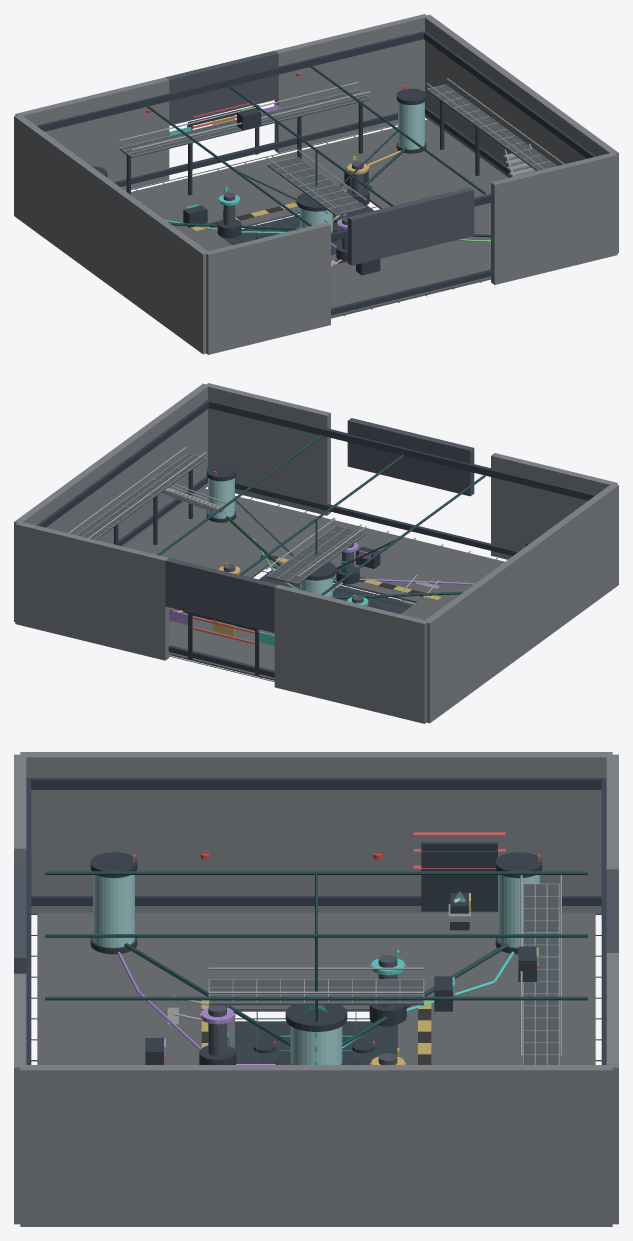
The model's file is industrial_coolant_relay_puzzle_room.glb.
The picture shows the model from 3 angles, top to bottom: view 1: azimuth 30°, elevation 25°; view 2: azimuth 150°, elevation 25°; view 3: azimuth 270°, elevation 25°; orthographic projection. The views are drawn at different scales.
Visible parts, largest first — view 1: west_wall, south_wall_right, south_wall_left, north_floor_slab, north_wall_right, east_wall, north_wall_left, south_floor_slab, south_entry_header, north_exit_header, north_upper_trim, east_floor_slab (+14 smaller); view 2: west_wall, north_wall_left, north_wall_right, south_floor_slab, south_wall_right, east_wall, south_wall_left, north_exit_header, south_entry_header, south_upper_trim, north_floor_slab, east_floor_slab (+12 smaller); view 3: east_wall, west_wall, south_floor_slab, north_floor_slab, west_floor_slab, west_upper_trim, north_control_balcony_mesh_base, west_optional_reward_gate_frame_left, central_over_pit_bridge_mesh_base, west_lower_trim, lowered_coolant_service_pit, violet_source_tank_C_glass_outer (+22 smaller).
Boxes of the visible parts, left/top/right/bottom form: west_wall: left=14, top=114, right=209, bottom=354; south_wall_right: left=491, top=153, right=617, bottom=284; south_wall_left: left=205, top=222, right=330, bottom=354; north_floor_slab: left=131, top=119, right=491, bottom=235; north_wall_right: left=274, top=14, right=427, bottom=153; east_wall: left=425, top=14, right=618, bottom=252; north_wall_left: left=15, top=77, right=169, bottom=190; south_floor_slab: left=331, top=222, right=490, bottom=318; south_entry_header: left=347, top=187, right=474, bottom=265; north_exit_header: left=165, top=50, right=278, bottom=125; north_upper_trim: left=36, top=31, right=425, bottom=131; east_floor_slab: left=368, top=162, right=508, bottom=225; west_wall: left=423, top=483, right=618, bottom=723; north_wall_left: left=274, top=584, right=427, bottom=723; north_wall_right: left=15, top=522, right=169, bottom=660; south_floor_slab: left=142, top=488, right=504, bottom=604; south_wall_right: left=205, top=383, right=330, bottom=515; east_wall: left=14, top=383, right=208, bottom=621; south_wall_left: left=491, top=453, right=617, bottom=559; north_exit_header: left=165, top=558, right=278, bottom=632; south_entry_header: left=347, top=418, right=474, bottom=496; south_upper_trim: left=207, top=400, right=596, bottom=500; north_floor_slab: left=169, top=607, right=274, bottom=680; east_floor_slab: left=124, top=530, right=272, bottom=577; east_wall: left=20, top=1065, right=612, bottom=1226; west_wall: left=20, top=752, right=612, bottom=913; south_floor_slab: left=37, top=912, right=234, bottom=1064; north_floor_slab: left=398, top=912, right=595, bottom=1064; west_floor_slab: left=217, top=912, right=415, bottom=1011; west_upper_trim: left=26, top=778, right=605, bottom=789; north_control_balcony_mesh_base: left=523, top=885, right=558, bottom=1064; west_optional_reward_gate_frame_left: left=421, top=842, right=497, bottom=911; central_over_pit_bridge_mesh_base: left=209, top=980, right=423, bottom=1005; west_lower_trim: left=31, top=896, right=601, bottom=905; lowered_coolant_service_pit: left=235, top=1021, right=397, bottom=1064; violet_source_tank_C_glass_outer: left=93, top=875, right=134, bottom=947.
Bounding box in the file's own units: 30.5 × 7.61 × 24.5.
